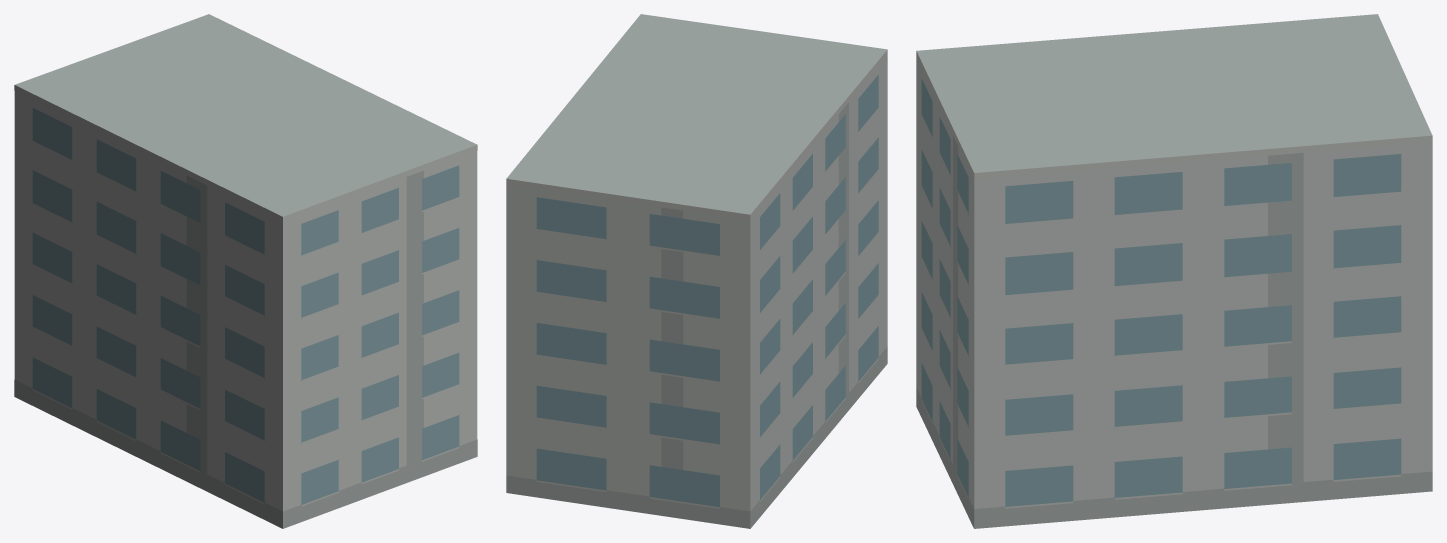
Rendered from survey-upis-32892275.glb.
3 views of the same model, side by side, from view 1: azimuth 30°, elevation 25°; view 2: azimuth 150°, elevation 25°; view 3: azimuth 270°, elevation 25° (orthographic). The views are drawn at different scales.
Visible parts, largest first — view 1: survey-upis-32892275.tmp; view 2: survey-upis-32892275.tmp; view 3: survey-upis-32892275.tmp.
Part boxes in pixels (x1,y1,x2,y2): survey-upis-32892275.tmp: (14,14,477,528); survey-upis-32892275.tmp: (506,14,887,528); survey-upis-32892275.tmp: (916,14,1432,528).
Size of the model in its own units: 12.47 by 13 by 17.1.
